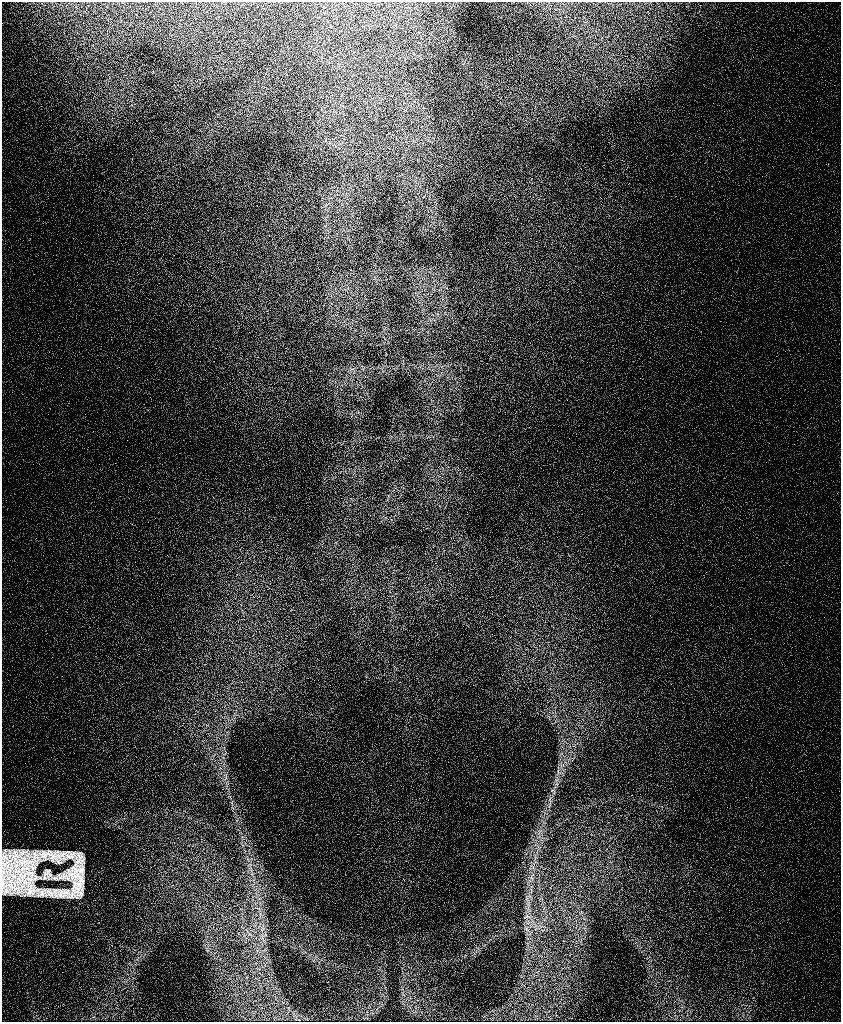lumbar scoliosis: (301, 106, 500, 583)
